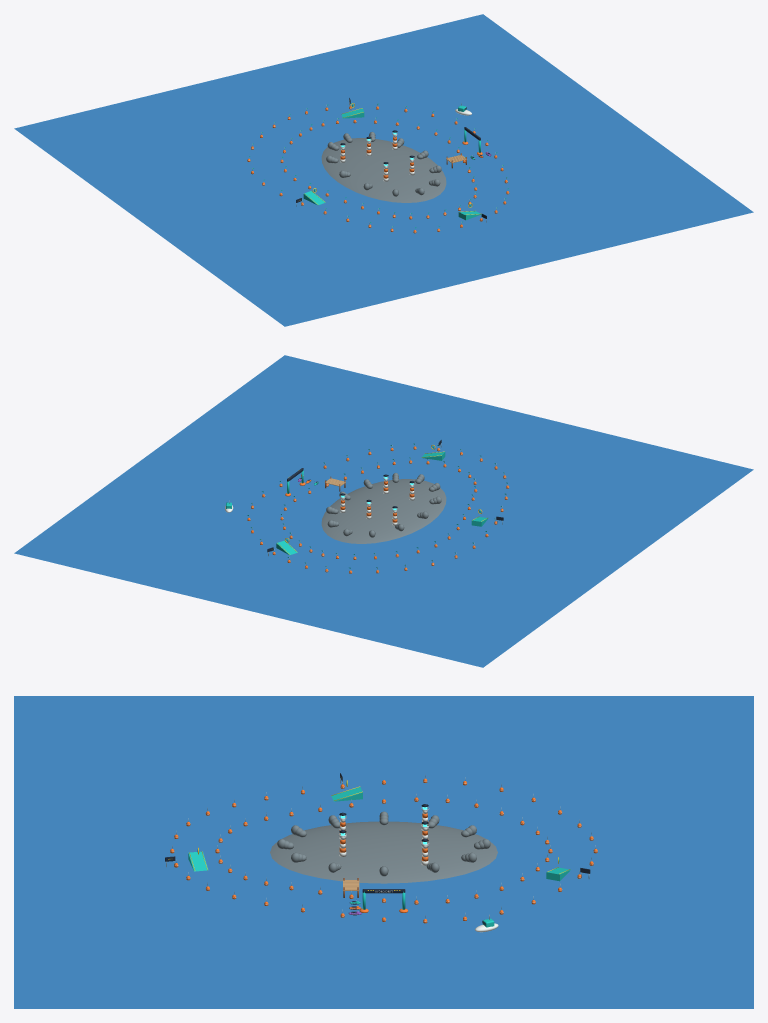
File: Track_Stormbreak_Bay.glb
3 views of the same model, one above another, from view 1: azimuth 30°, elevation 25°; view 2: azimuth 150°, elevation 25°; view 3: azimuth 270°, elevation 25° (orthographic). The views are drawn at different scales.
Visible parts, largest first — view 1: Water_preview_surface.004, Central_island.004; view 2: Water_preview_surface.004, Central_island.004; view 3: Water_preview_surface.004, Central_island.004.
Boxes of the visible parts, x1,y1,x2,y2 form: Water_preview_surface.004: (14, 14, 753, 326); Central_island.004: (321, 138, 446, 202); Water_preview_surface.004: (14, 355, 753, 667); Central_island.004: (321, 479, 446, 543); Water_preview_surface.004: (14, 696, 753, 1008); Central_island.004: (270, 821, 497, 883).
Bounding box in the file's own units: 180 × 12.98 × 180.
